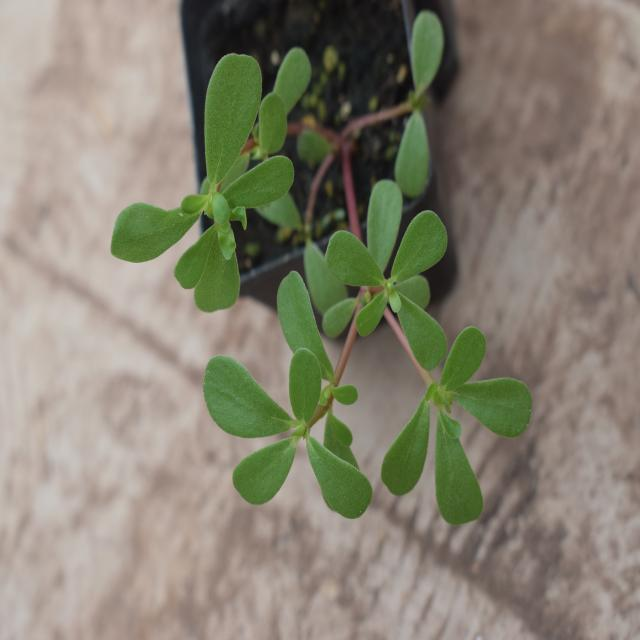purslane: (114, 55, 546, 544)
